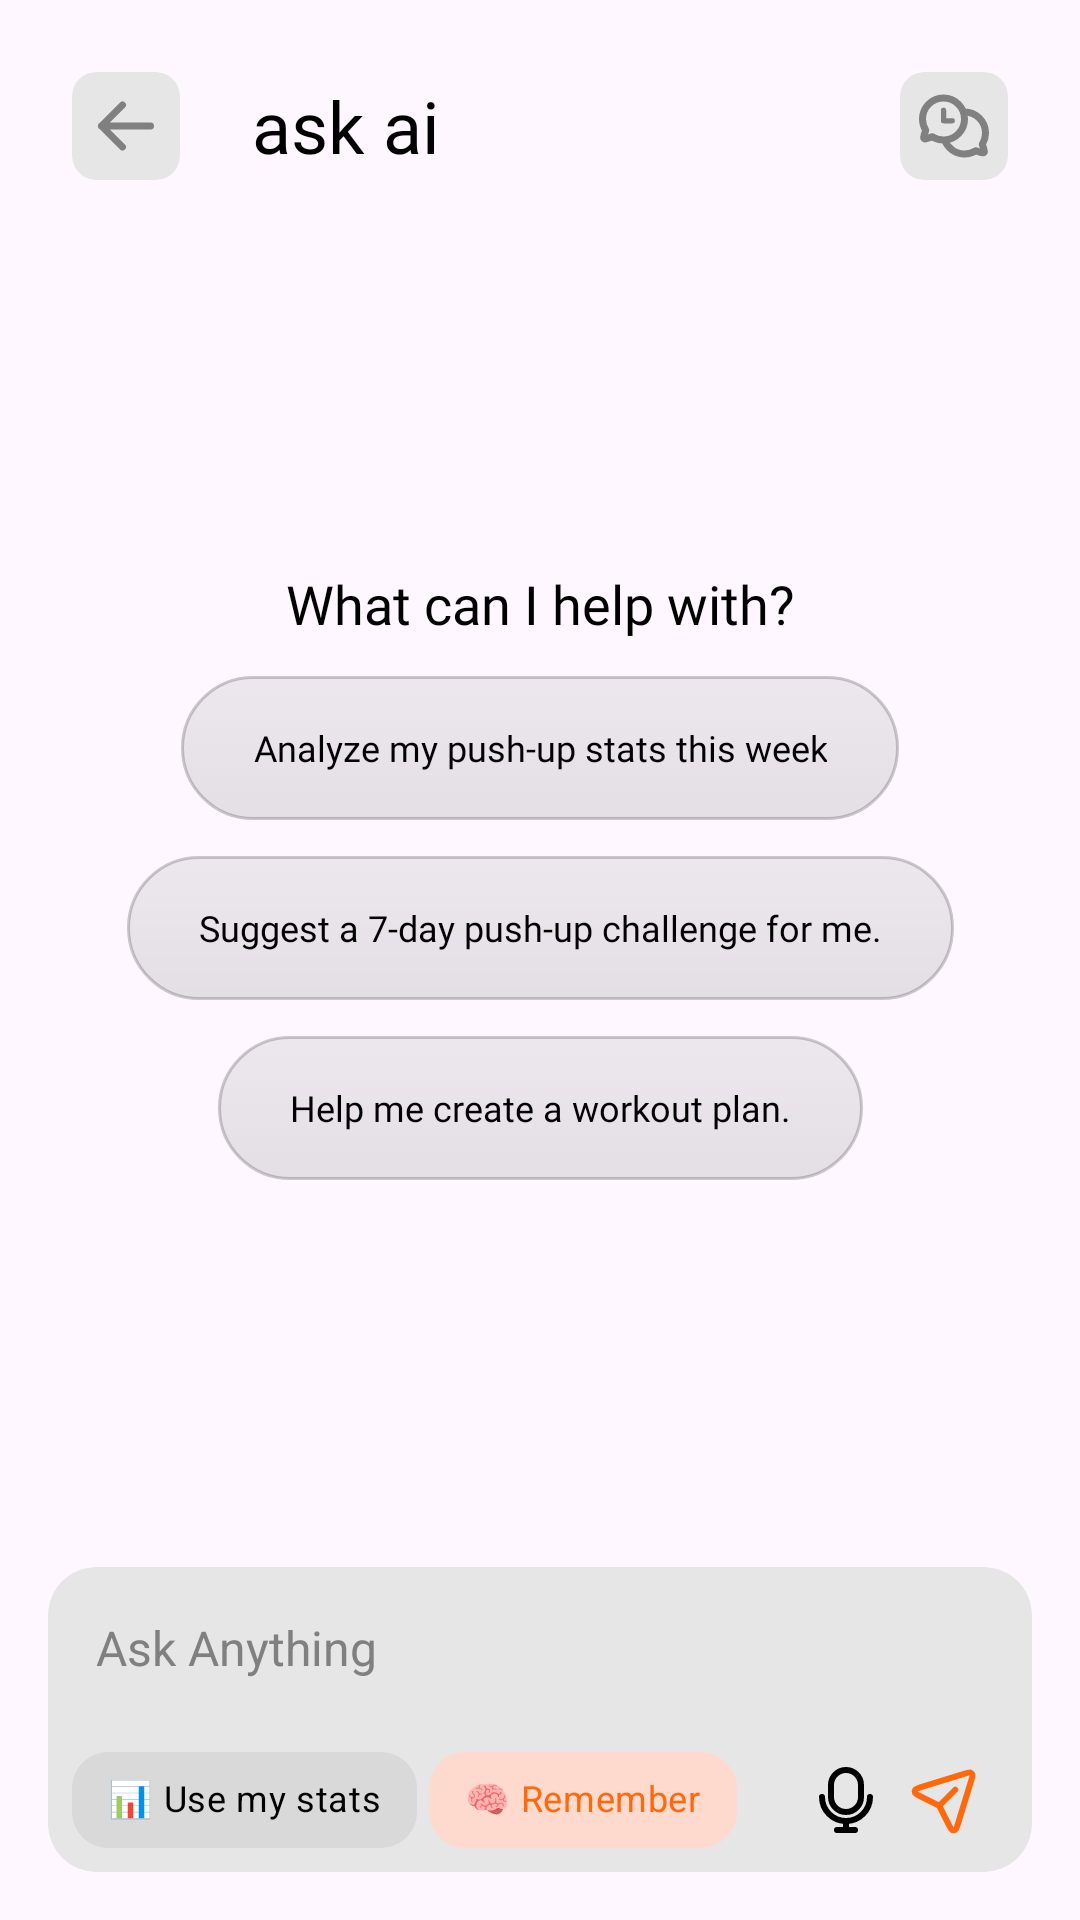

Named icons in this screenshot (1080px x 1920px) and their centers, (x,y):
Back: (126,126)
conversations: (954,126)
mic: (846,1800)
send: (943,1801)
